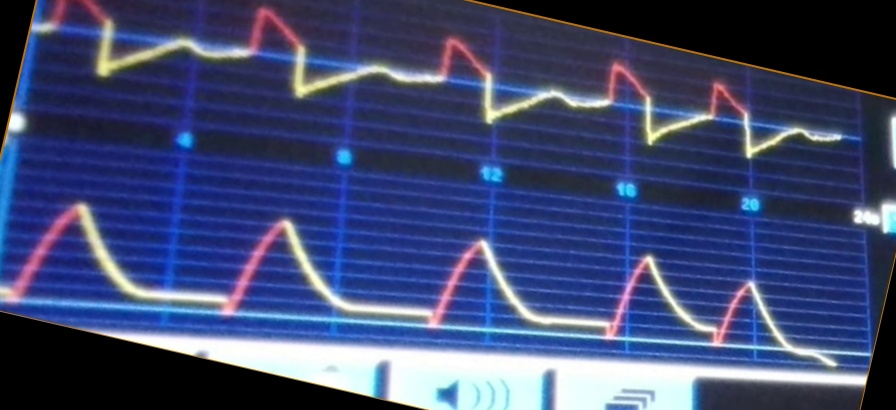Ineffective_effort Flow: (38, 1, 842, 157)
Ineffective_effort Volume: (2, 195, 836, 366)
